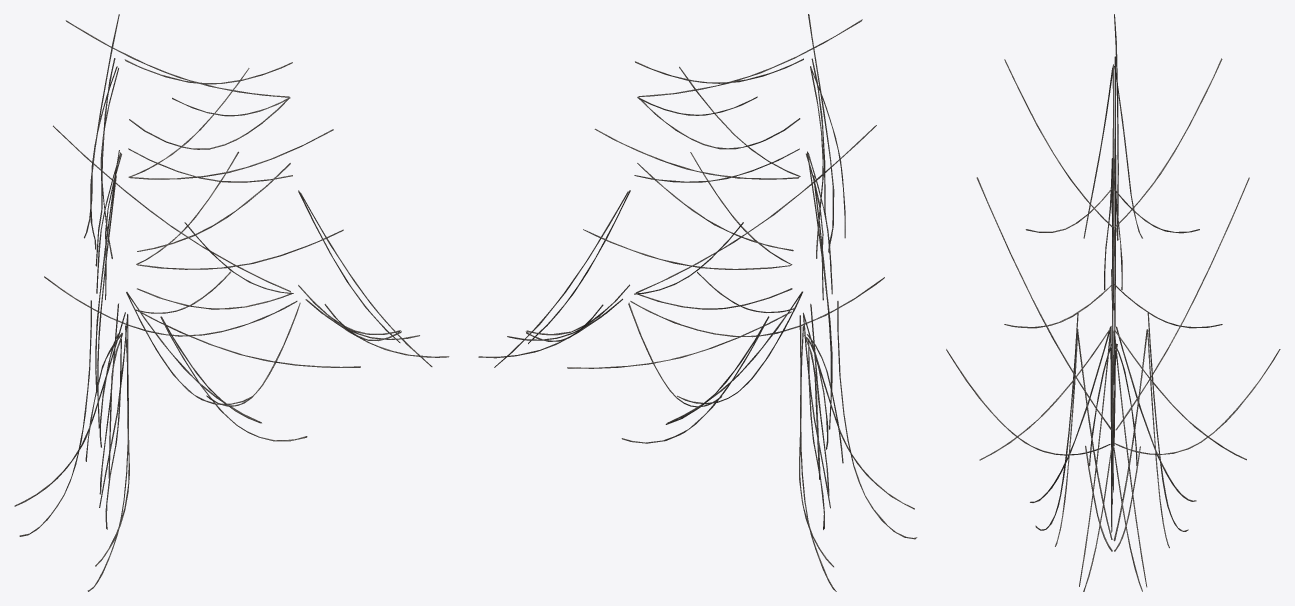
Rendered from SM_ship_3_rope_1.fbx.
3 renders of one model, left to right at view 1: azimuth 30°, elevation 25°; view 2: azimuth 150°, elevation 25°; view 3: azimuth 270°, elevation 25°, orthographic. The views are drawn at different scales.
Visible parts, largest first — view 1: SM_ship_3_rope_1; view 2: SM_ship_3_rope_1; view 3: SM_ship_3_rope_1.
Boxes of the visible parts, <box> form: SM_ship_3_rope_1: <box>14,14,449,591</box>; SM_ship_3_rope_1: <box>478,14,917,591</box>; SM_ship_3_rope_1: <box>946,14,1280,591</box>.
Bounding box in the file's own units: 2059 × 1506 × 2724.
1 material, 1 textured.
